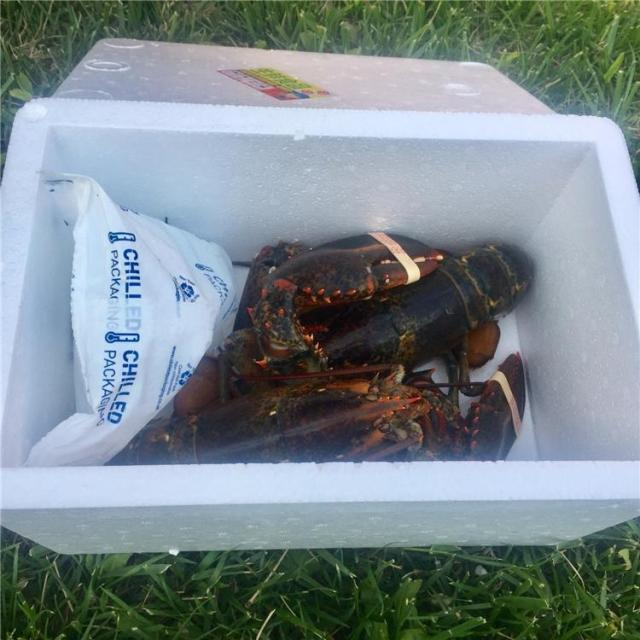styrofoam: (1, 38, 638, 555)
